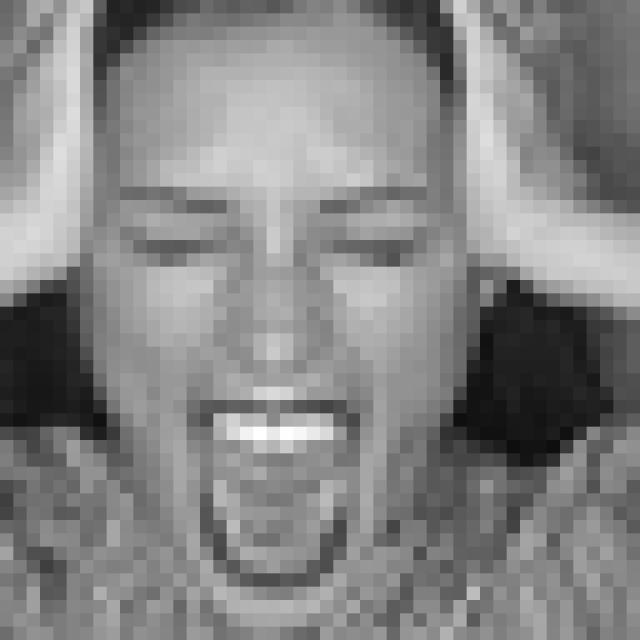angry: (102, 171, 447, 619)
